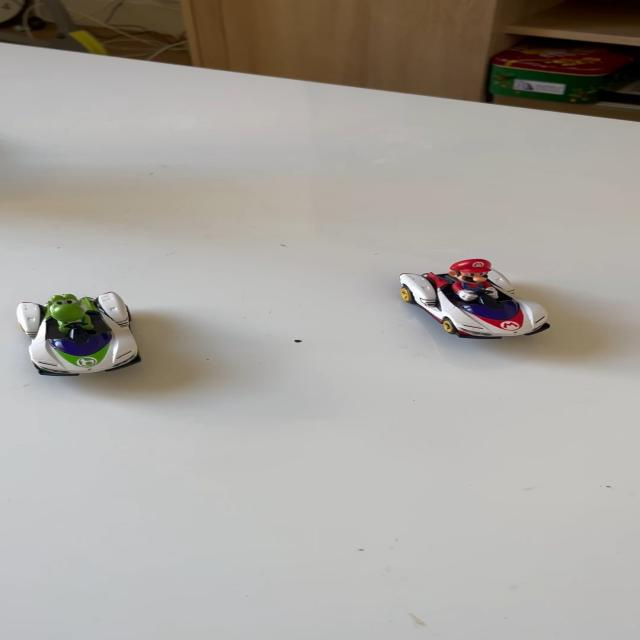mario: (383, 248, 572, 348)
yoshi: (8, 282, 158, 384)
